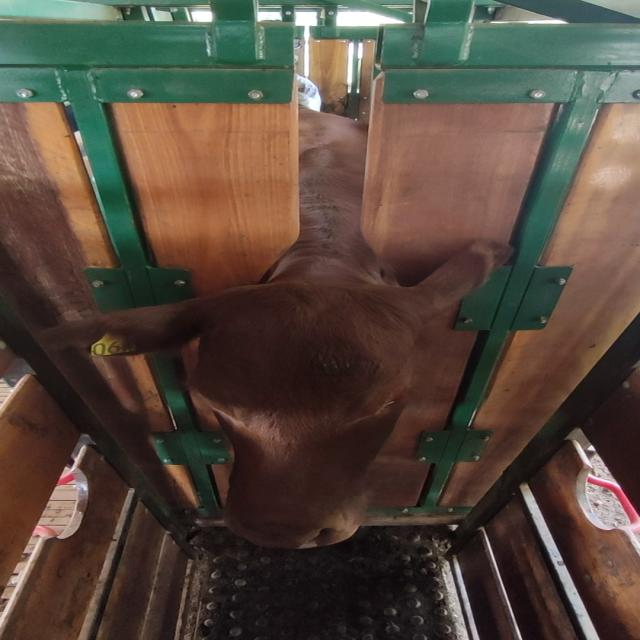cowFace: (200, 285, 422, 545)
